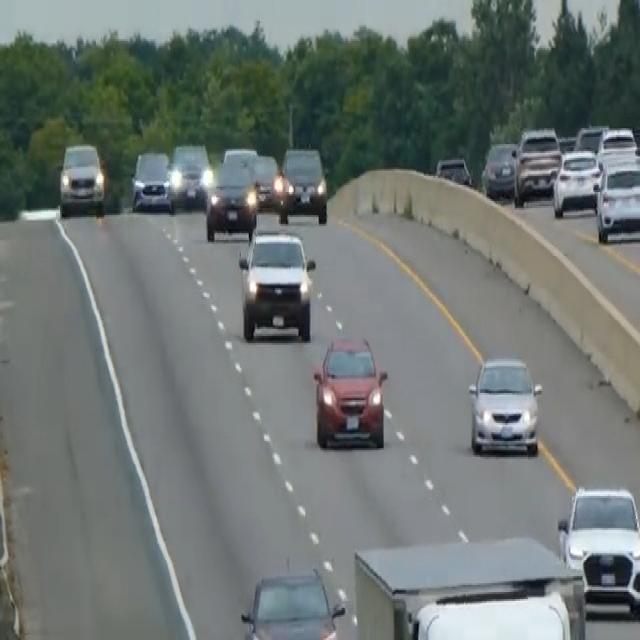car: (312, 332, 388, 450), (408, 587, 574, 638), (238, 564, 346, 638), (467, 352, 543, 457), (557, 482, 639, 572), (204, 156, 258, 240), (580, 544, 639, 617), (594, 154, 639, 243), (278, 144, 328, 224), (512, 124, 562, 204), (58, 140, 106, 217), (552, 146, 601, 217), (130, 148, 174, 214), (169, 140, 211, 208), (481, 141, 517, 199), (251, 151, 283, 212), (597, 124, 638, 169), (435, 153, 473, 187), (222, 144, 257, 178), (573, 122, 607, 154)
jeep: (236, 226, 316, 343)
lorry: (352, 532, 589, 638)
